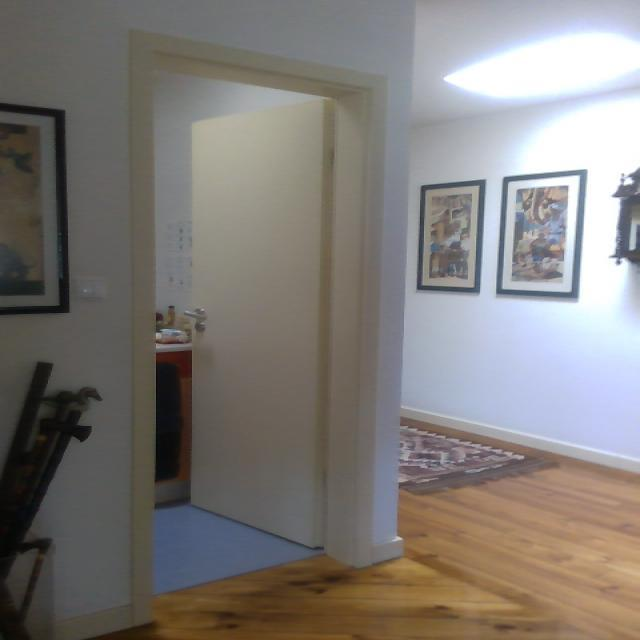door: (113, 29, 390, 622)
